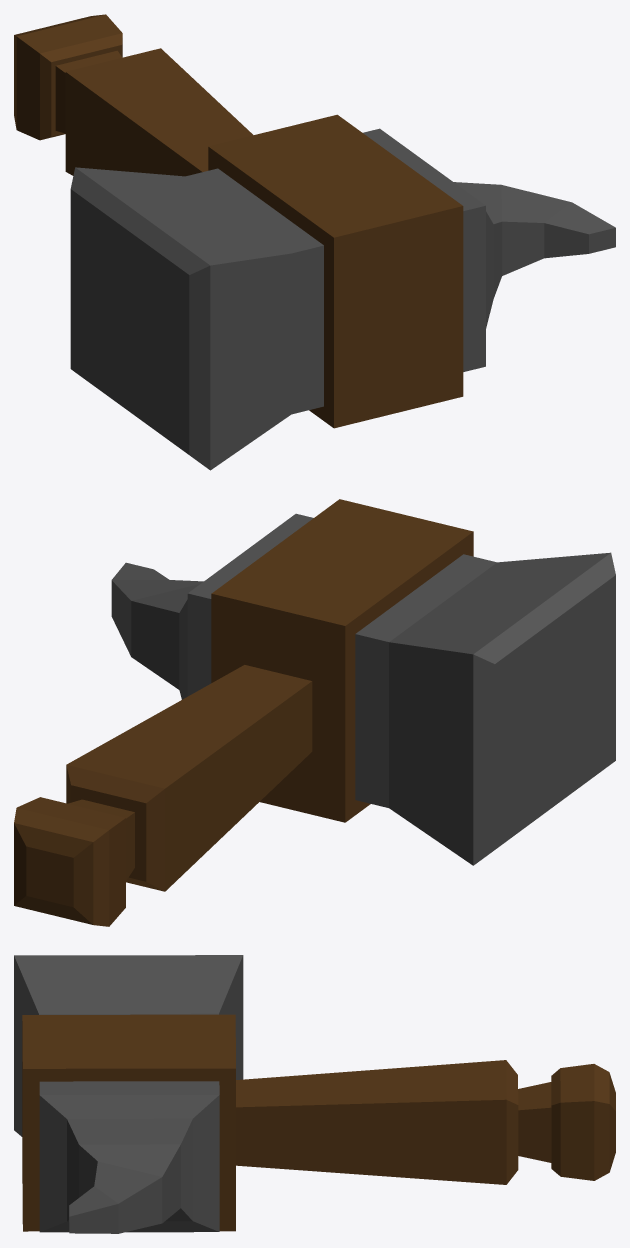
File: F_Hammer_B.fbx
The picture shows the model from 3 angles, top to bottom: view 1: azimuth 30°, elevation 25°; view 2: azimuth 150°, elevation 25°; view 3: azimuth 270°, elevation 25°; orthographic projection. The views are drawn at different scales.
Visible parts, largest first — view 1: F_Hammer_B; view 2: F_Hammer_B; view 3: F_Hammer_B.
Boxes of the visible parts, x1,y1,x2,y2 form: F_Hammer_B: (14,14,615,470); F_Hammer_B: (14,499,615,926); F_Hammer_B: (14,955,615,1233).
Size of the model in its own units: 52.26 by 22.68 by 70.77.
